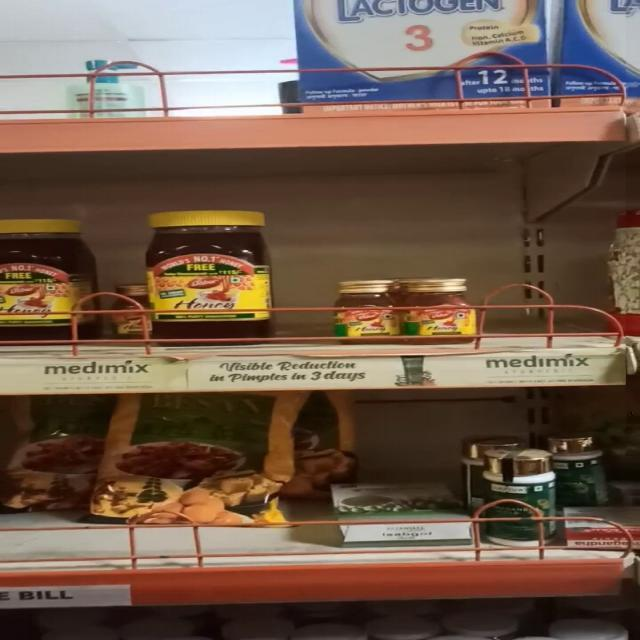Dabur Honey: (149, 210, 270, 344), (402, 280, 479, 342), (334, 280, 397, 343)
